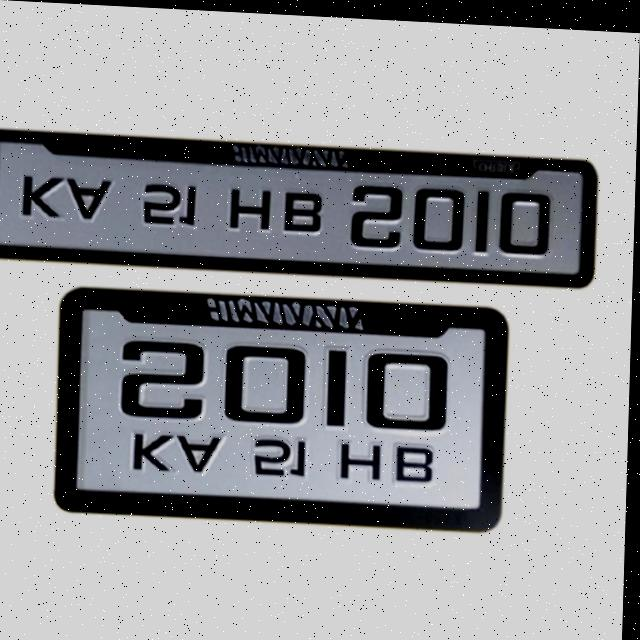plate: (57, 285, 512, 529), (0, 130, 597, 287)
